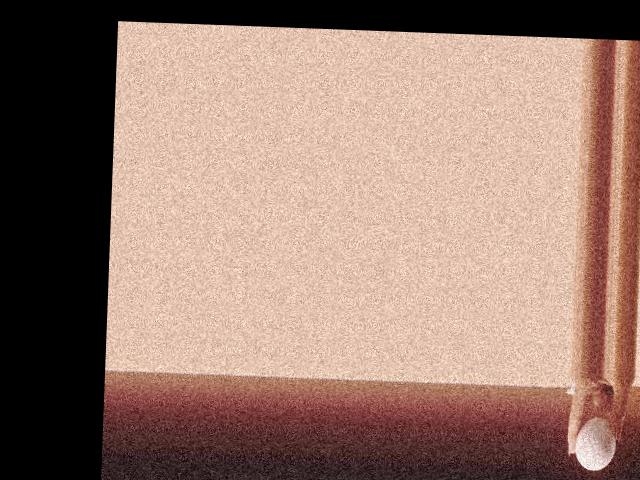egg: (575, 415, 617, 470)
